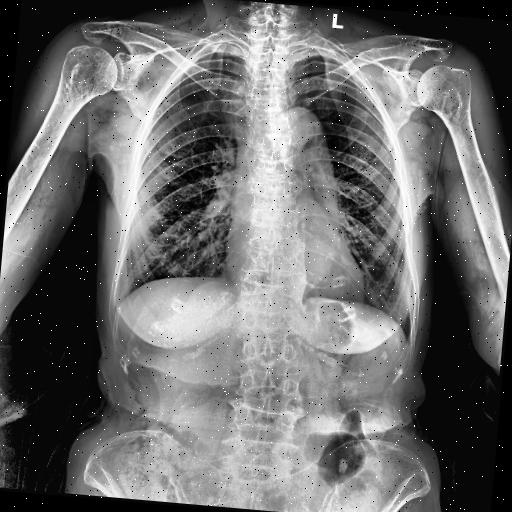0- Aortic enlargement: (269, 106, 338, 170), (272, 105, 338, 169), (278, 105, 330, 170)
11- Pleural thickening: (210, 41, 246, 58)
